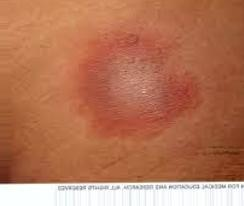Tick: (66, 9, 206, 152)
